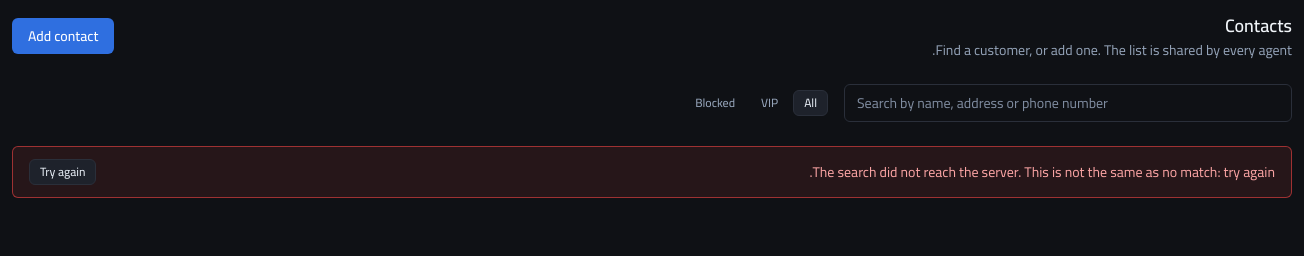
with the server stopped, every screen says it could not load › contacts: Try again asks again, and the list arrives
The width and height of the screenshot is (1304, 256).
Expected: the text "The search did not reach the server" is shown, 809,159 -> 1275,185
Step 1. Click the button "Try again" → point(63, 172), box 29,159 -> 96,185
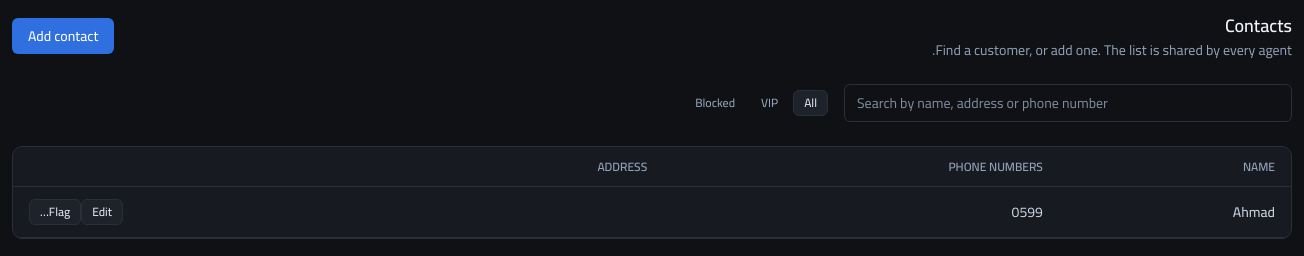
Result: the text "Ahmad" is shown at 1059,187 -> 1291,238
Result: the text "The search did not reach the server" is gone
